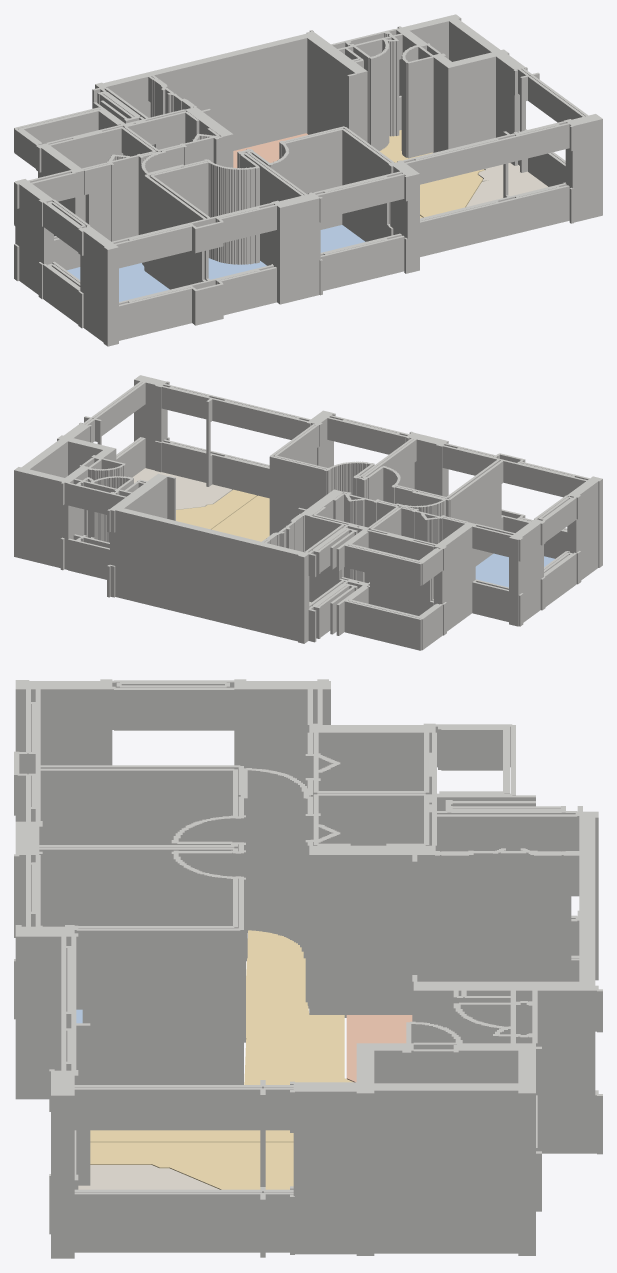
The picture shows the model from 3 angles, top to bottom: view 1: azimuth 30°, elevation 25°; view 2: azimuth 150°, elevation 25°; view 3: azimuth 270°, elevation 25°; orthographic projection. The views are drawn at different scales.
Visible parts, largest first — view 1: walls, room:living:6, room:other:2, room:bedroom:7, room:bedroom:0, room:kitchen:12, room:bedroom:1; view 2: walls, room:living:5, room:other:2, room:living:6, room:bedroom:7; view 3: walls, room:living:5, room:living:6, room:other:2, room:kitchen:12.
Boxes of the visible parts, <box> form: walls: <box>14,14,602,346</box>; room:living:6: <box>379,130,484,217</box>; room:other:2: <box>466,163,547,206</box>; room:bedroom:7: <box>67,263,169,301</box>; room:bedroom:0: <box>320,225,365,252</box>; room:kitchen:12: <box>233,133,308,168</box>; room:bedroom:1: <box>208,258,266,279</box>; walls: <box>14,375,602,650</box>; room:living:5: <box>212,495,269,541</box>; room:other:2: <box>132,468,232,509</box>; room:living:6: <box>176,489,256,529</box>; room:bedroom:7: <box>475,553,554,587</box>; walls: <box>14,679,602,1258</box>; room:living:5: <box>90,930,353,1142</box>; room:living:6: <box>90,1142,293,1189</box>; room:other:2: <box>78,1165,219,1189</box>; room:kitchen:12: <box>346,1015,412,1082</box>.
Size of the model in its own units: 15.35 by 2.8 by 9.18.
